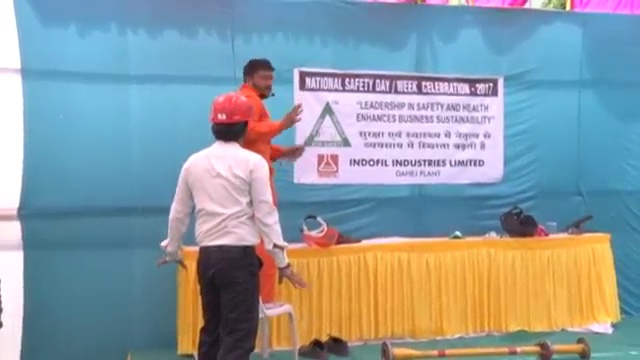helmet: (209, 92, 253, 124)
helmet_off: (243, 56, 276, 99)
helmet_on: (208, 92, 253, 145)
person: (161, 92, 295, 360), (237, 53, 303, 304)
